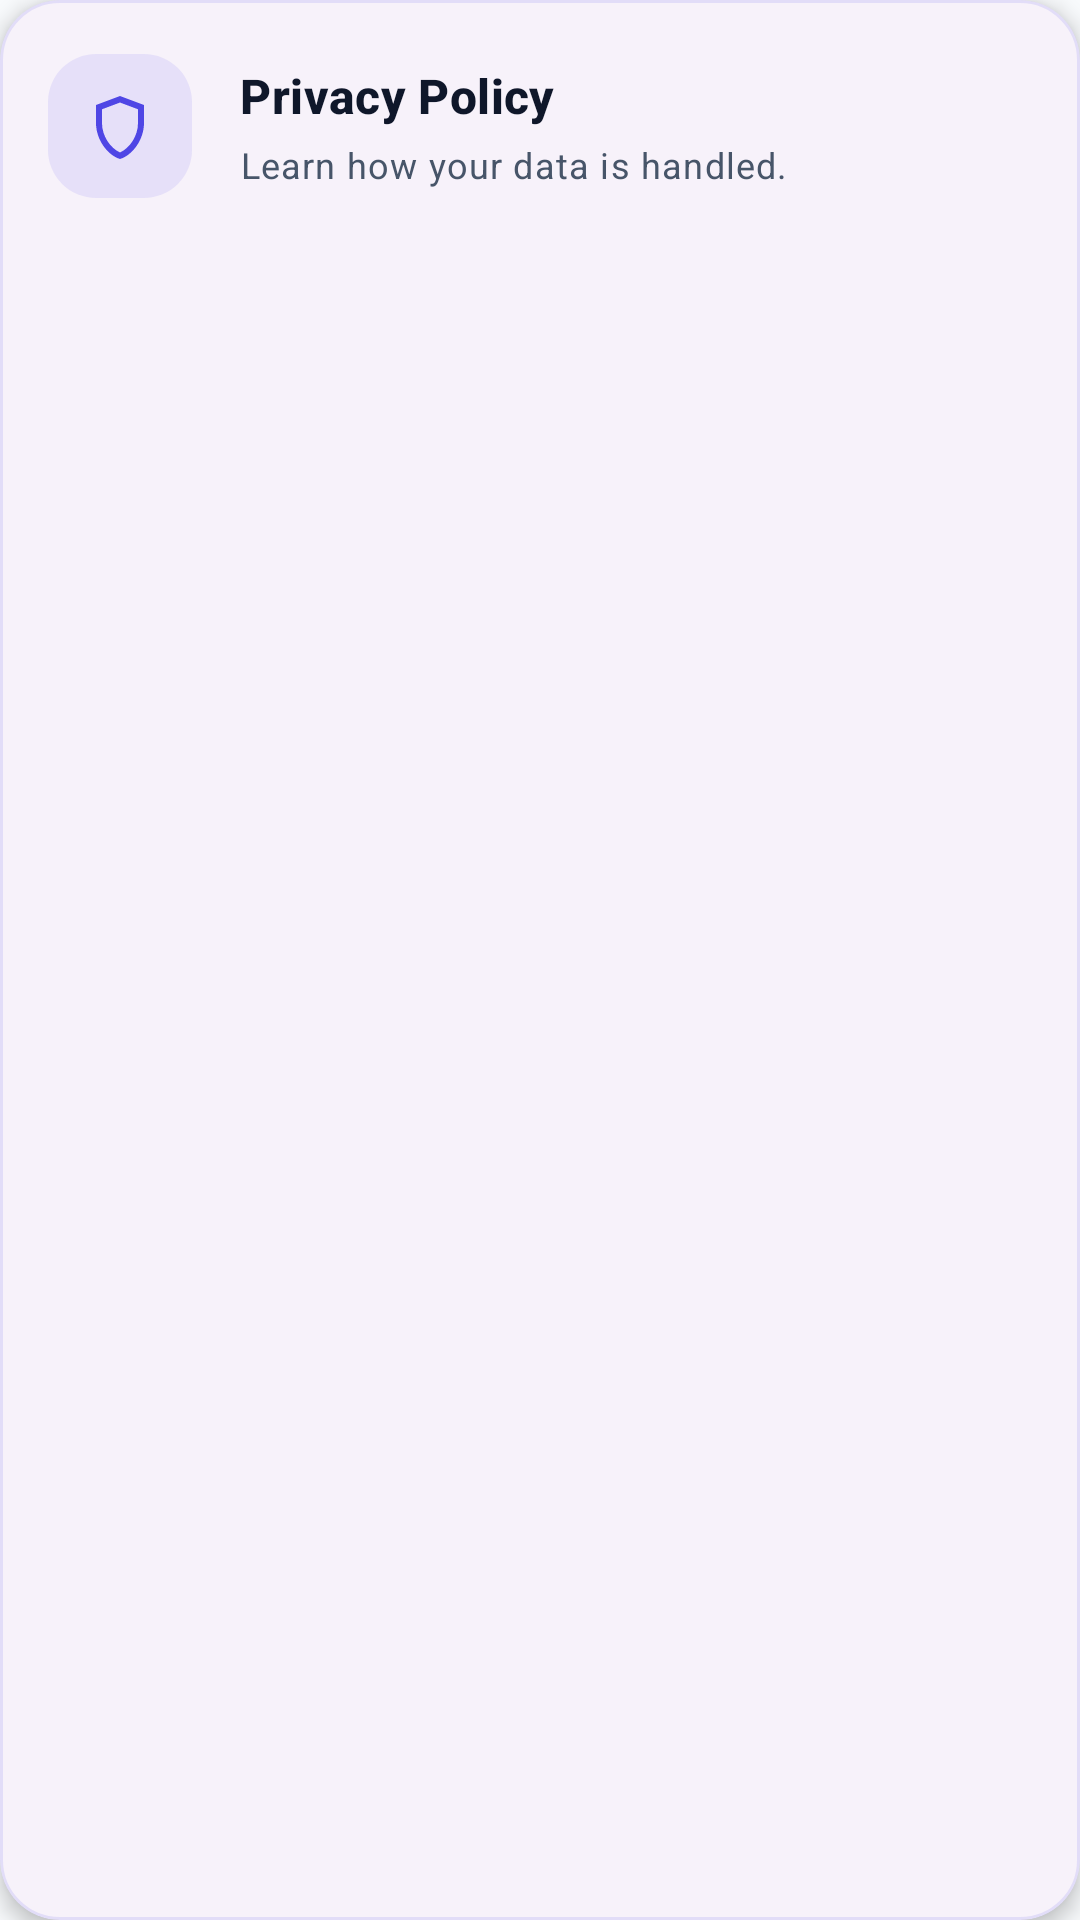

Screen size 1080px x 1920px. Icon name, then its box in pixels as bbox=[x1, y1, x2, y2]:
shield: bbox=[96, 96, 144, 159]
